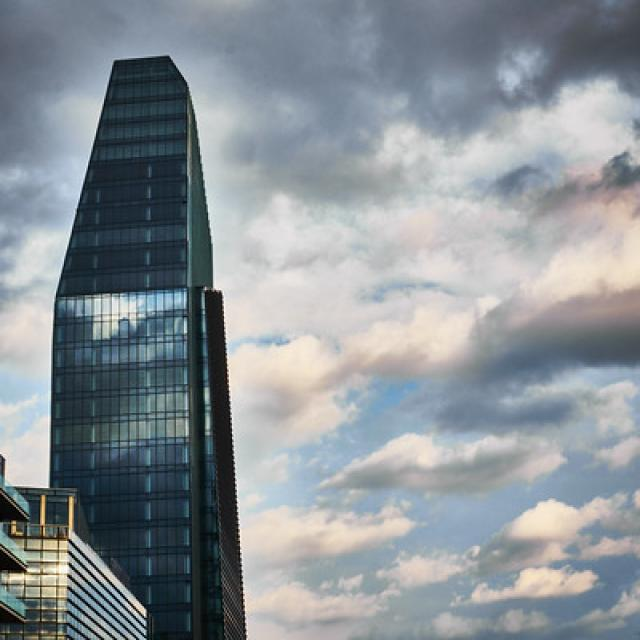building: (40, 54, 254, 639)
